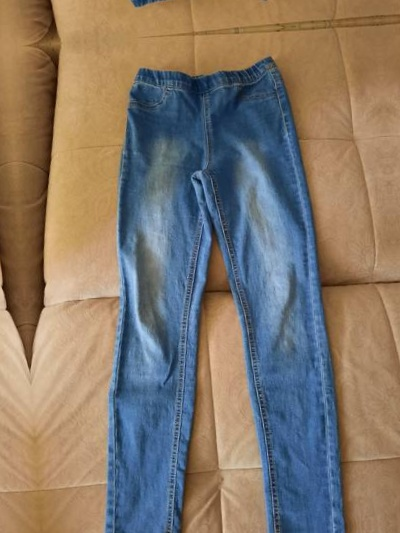Pants: (59, 38, 368, 533), (22, 0, 331, 29), (94, 527, 400, 533), (387, 0, 400, 2)
